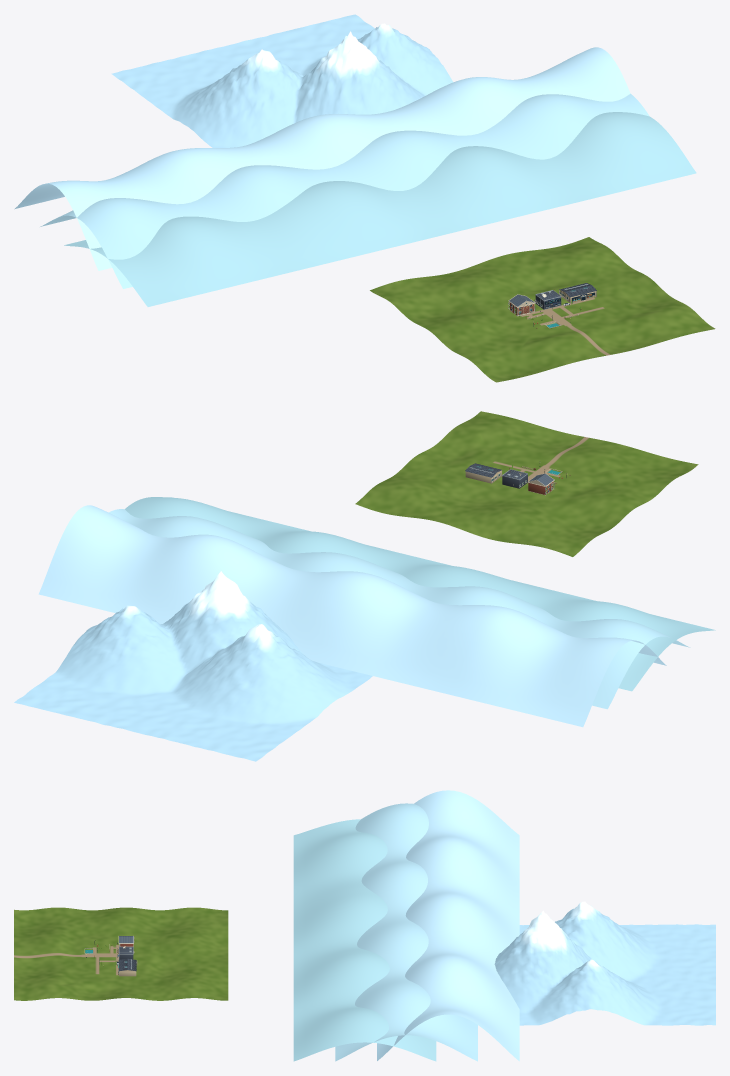
File: avenue.glb
3 views of the same model, one above another, from view 1: azimuth 30°, elevation 25°; view 2: azimuth 150°, elevation 25°; view 3: azimuth 270°, elevation 25° (orthographic). The views are drawn at different scales.
Parts seen in each view (by area): view 1: Central Avenue avenue, Logan Terrain.001, Far snow peaks.002; view 2: Central Avenue avenue, Far snow peaks.002, Logan Terrain.001; view 3: Central Avenue avenue, Far snow peaks.002, Logan Terrain.001.
Part boxes in pixels (box(x1,y1,x2,y2)): Central Avenue avenue: box(14, 47, 696, 328); Logan Terrain.001: box(370, 237, 715, 382); Far snow peaks.002: box(111, 14, 453, 147); Central Avenue avenue: box(38, 462, 715, 727); Far snow peaks.002: box(14, 571, 372, 761); Logan Terrain.001: box(355, 411, 698, 556); Central Avenue avenue: box(84, 790, 519, 1061); Far snow peaks.002: box(494, 901, 715, 1025); Logan Terrain.001: box(14, 907, 228, 1000).
Size of the model in its own units: 450 by 66.31 by 590.
45 materials, 1 textured.
